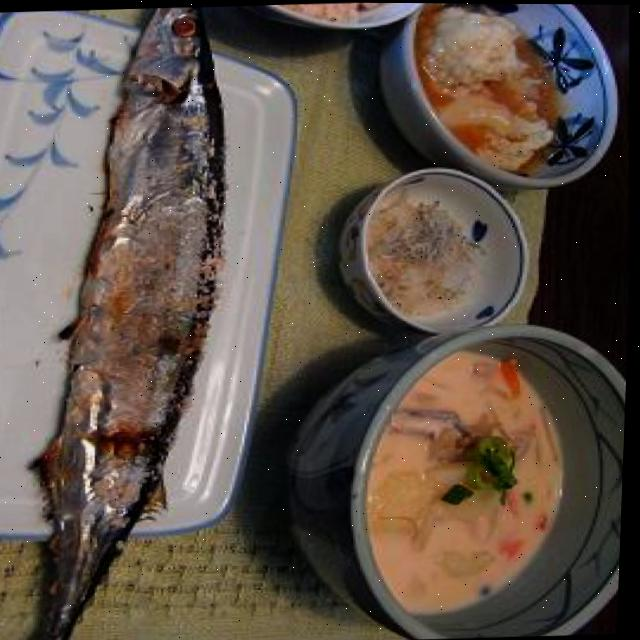熟制海鲜: (0, 2, 267, 640)
